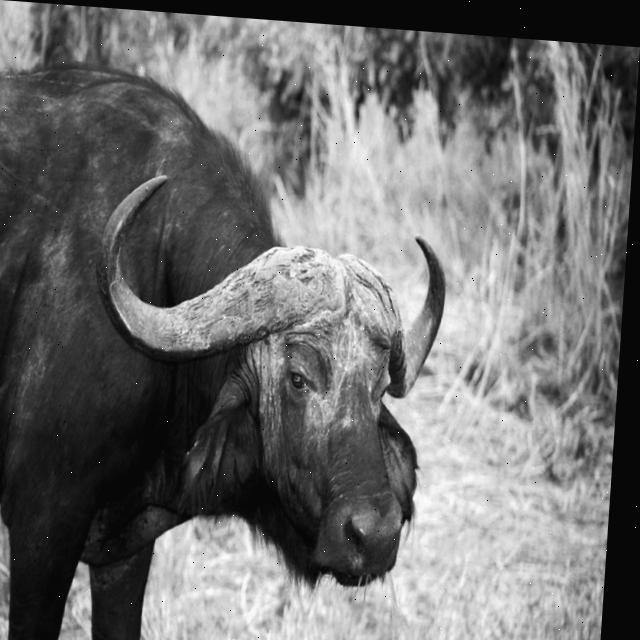Buffalo: (0, 57, 459, 640)
